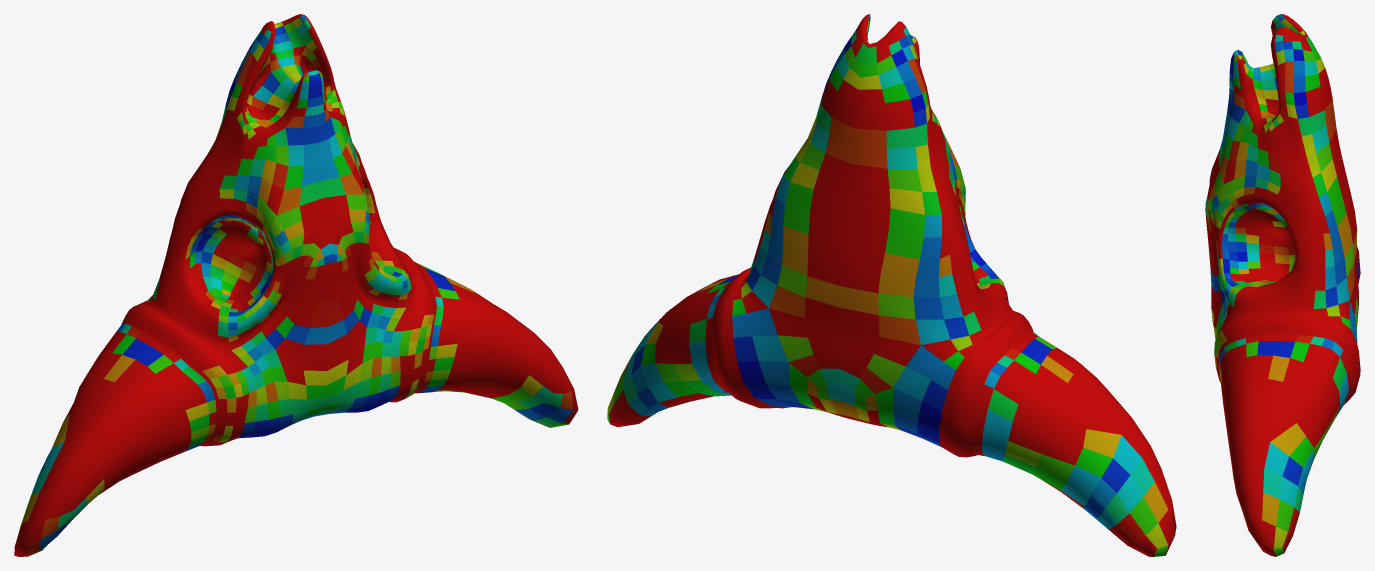
File: cowSkull_no_opt_quality.obj
3 renders of one model, left to right at view 1: azimuth 30°, elevation 25°; view 2: azimuth 150°, elevation 25°; view 3: azimuth 270°, elevation 25°, orthographic. The views are drawn at different scales.
Size of the model in its own units: 4.51 by 3.63 by 1.22.
